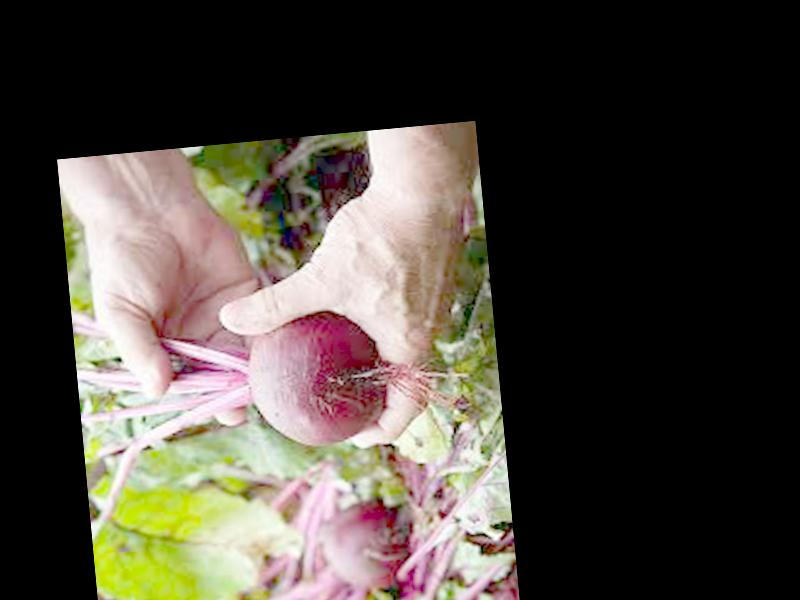Beet: (75, 303, 398, 540)
